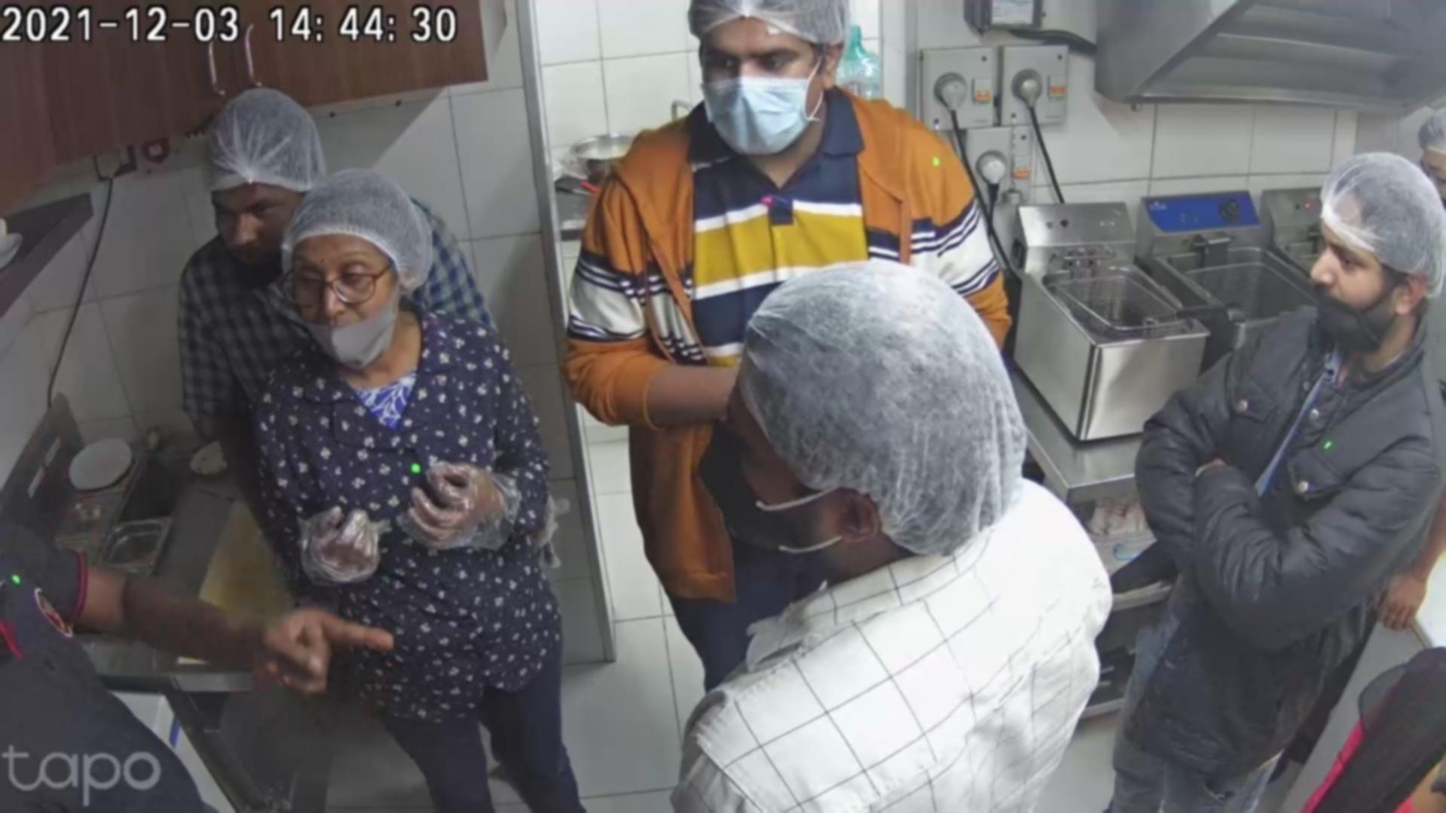apron: (390, 445, 535, 557), (285, 498, 396, 605)
gloves: (739, 247, 1041, 563), (1298, 142, 1446, 299), (297, 172, 445, 289), (202, 78, 322, 200), (659, 3, 870, 64), (1411, 94, 1442, 172)
mask: (671, 420, 820, 570), (697, 46, 816, 146)
no_apron: (230, 595, 406, 708), (1377, 555, 1446, 646)
no_hairnet: (296, 244, 395, 341), (1312, 218, 1387, 315), (207, 187, 287, 267)
